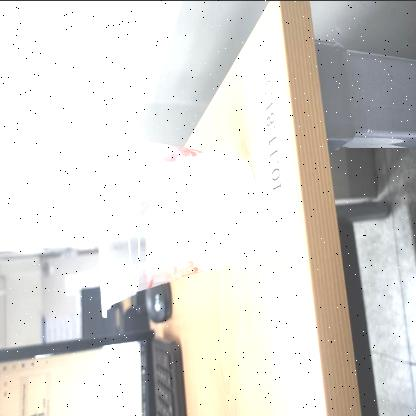Others: (94, 115, 258, 319)
